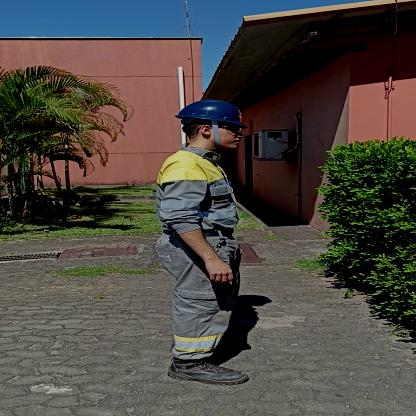Capacete: (175, 96, 249, 124)
